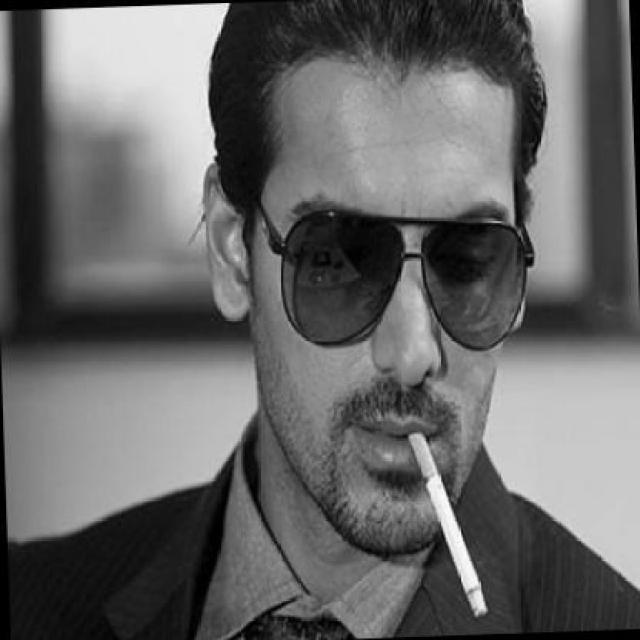rokok: (402, 426, 491, 626)
